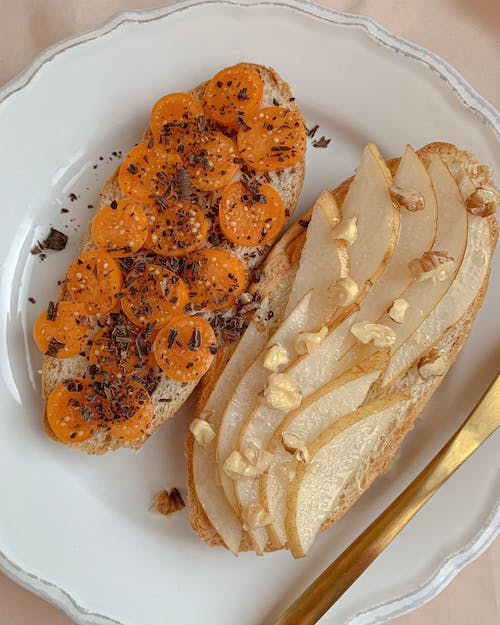knife: (268, 367, 500, 625)
